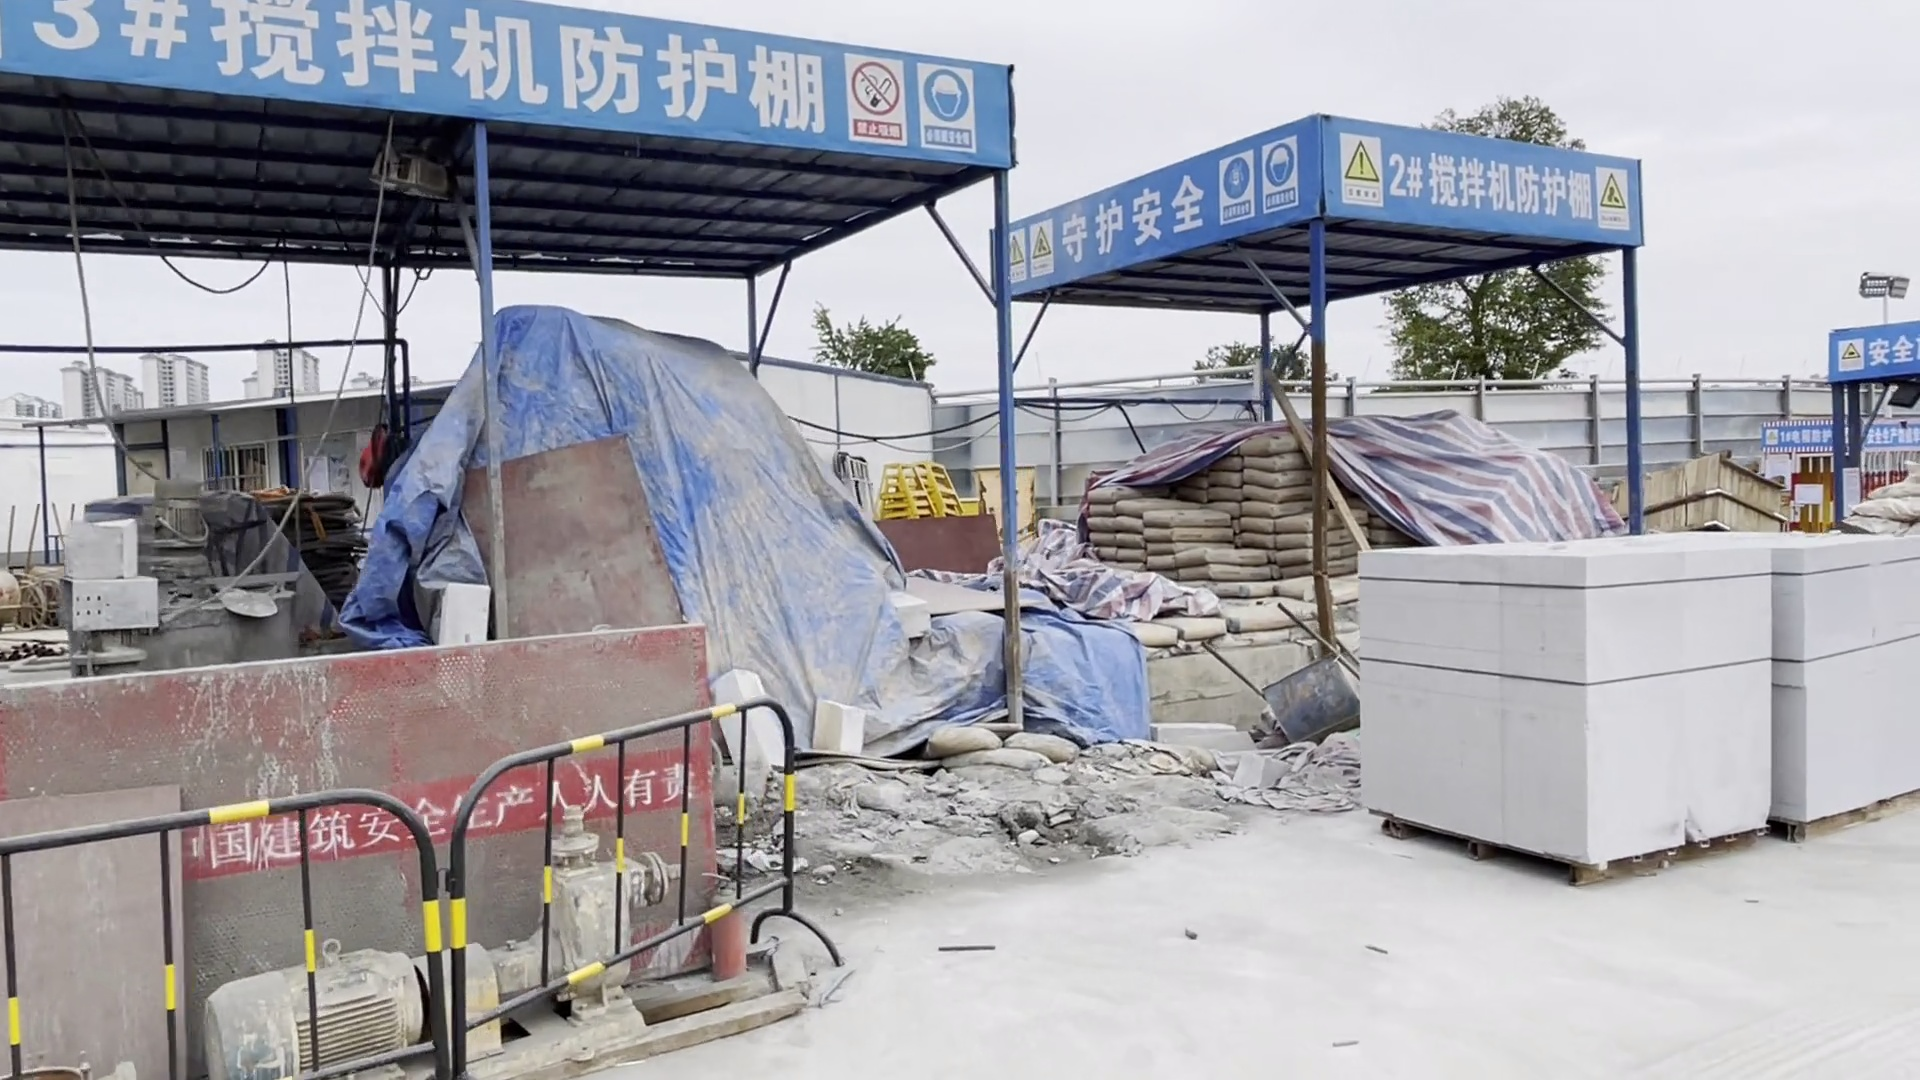brick: (1348, 541, 1774, 884), (1650, 526, 1919, 847)
ebox: (967, 465, 1040, 541)
slogan: (1055, 178, 1221, 258)
